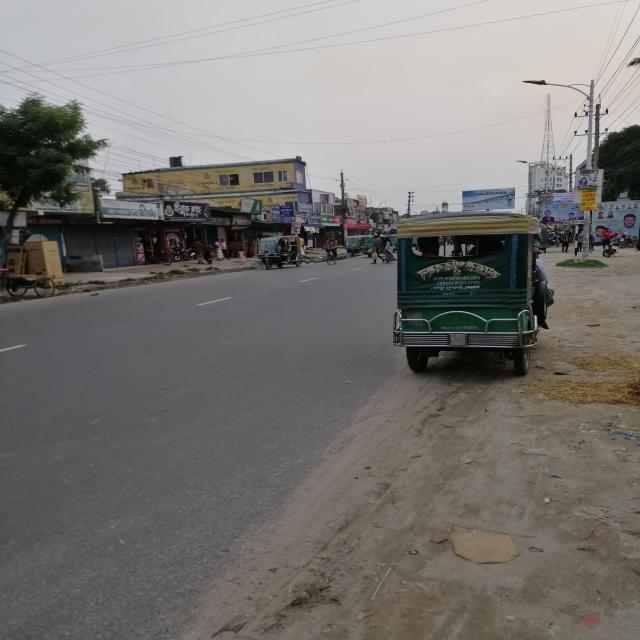Easybike: (374, 205, 557, 382)
